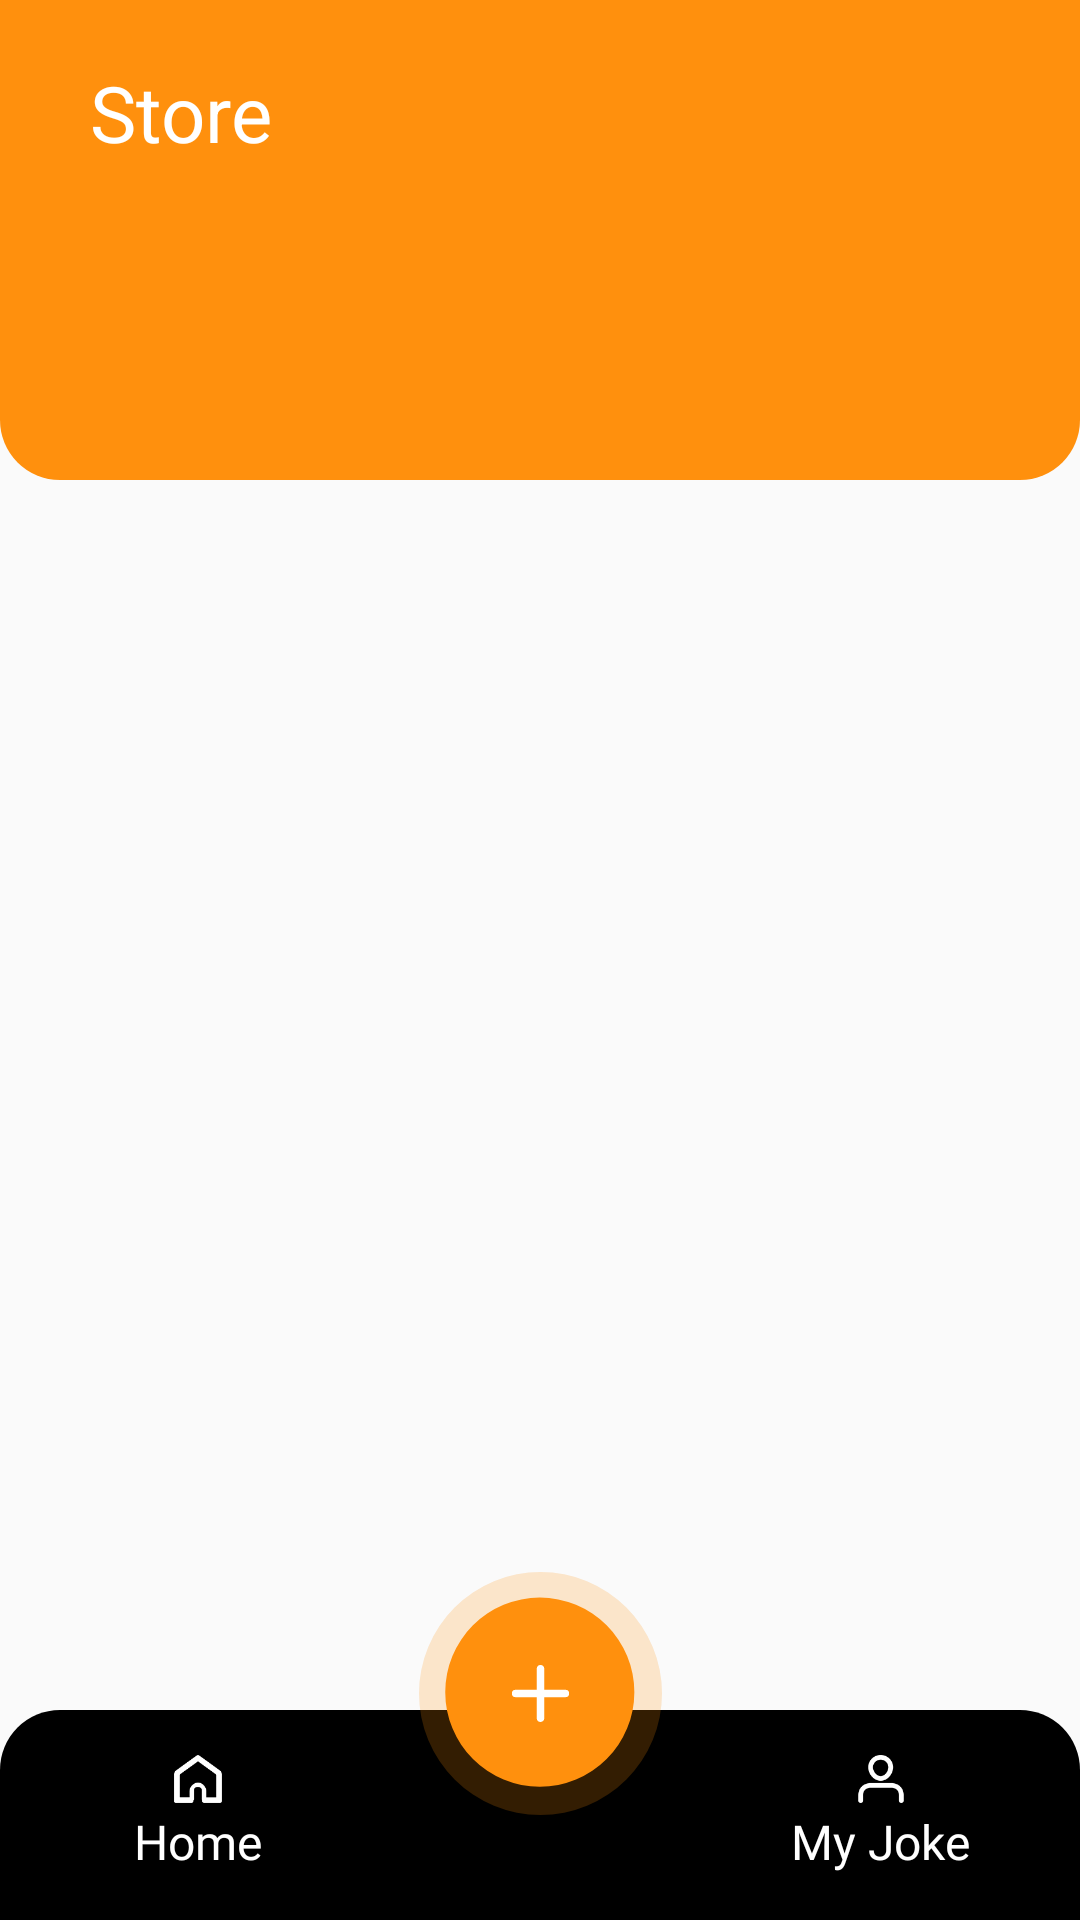

Screen size 1080 × 1920. Icon name, then its center in pixels as [x,y]:
plus: [540,1710]
user: [881,1779]
